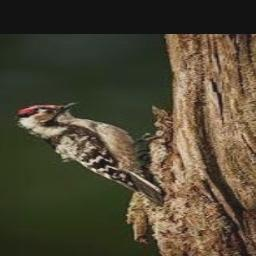Woodpecker: (14, 101, 162, 205)
